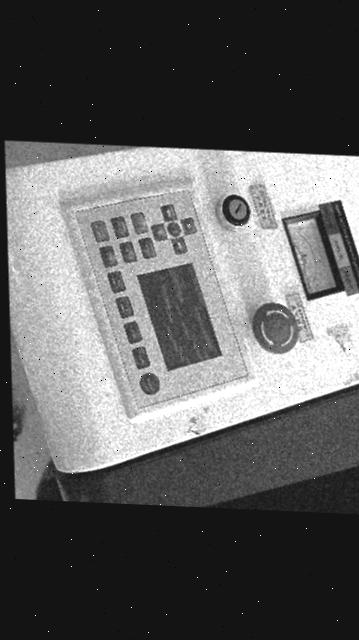Amp_Meter: (284, 218, 335, 294)
Display: (136, 264, 220, 371)
Down_button: (149, 224, 166, 241)
Emergency_Stop: (251, 303, 297, 354)
Enter_button: (129, 213, 146, 234)
Esc_button: (137, 238, 154, 259)
File_button: (97, 246, 116, 268)
Frame_button: (109, 217, 127, 238)
Left_button: (169, 238, 185, 255)
Max-Power_button: (106, 271, 124, 293)
Min-Power_button: (114, 296, 132, 318)
Origin_button: (117, 242, 135, 263)
Power_switch: (215, 195, 249, 231)
Pulse_button: (130, 347, 148, 370)
Reset_button: (138, 374, 158, 396)
Right_button: (159, 205, 175, 222)
Speed_button: (122, 322, 140, 344)
Start-Pause_button: (89, 221, 107, 242)
Up_button: (179, 218, 195, 235)
Z_U_button: (165, 222, 179, 237)
